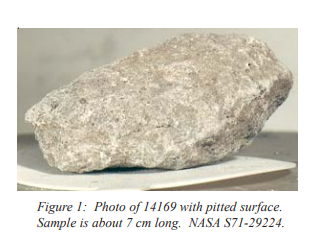Breccia: (22, 21, 283, 177)
